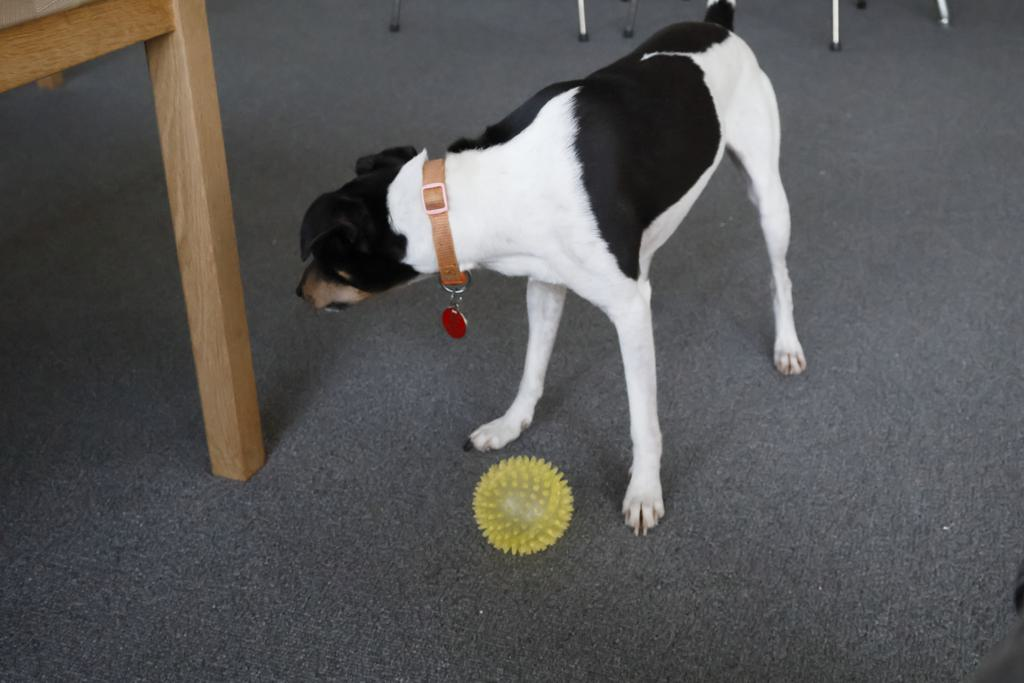Dog: (277, 0, 821, 543)
